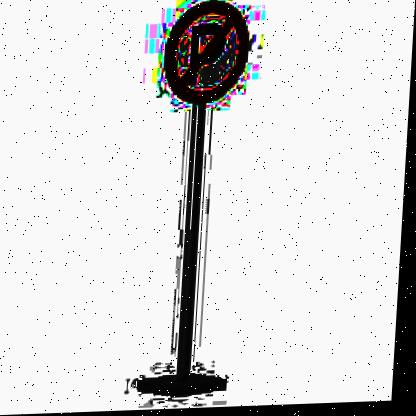No parking: (159, 0, 254, 111)
